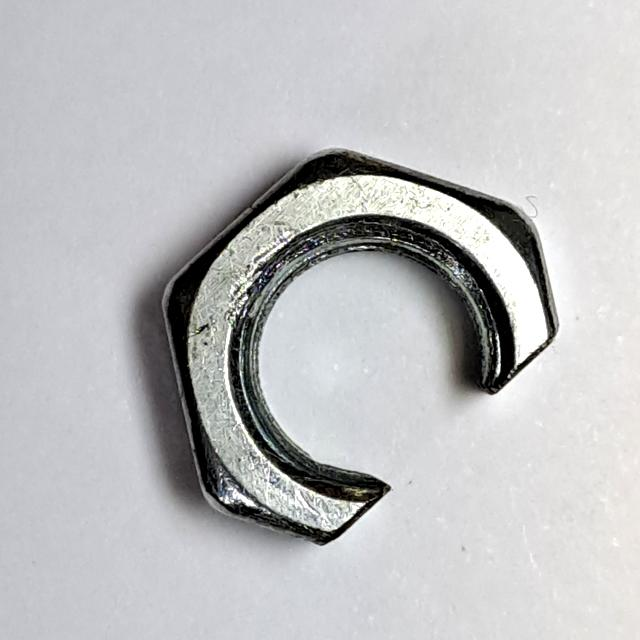Fracture: (147, 137, 573, 563)
